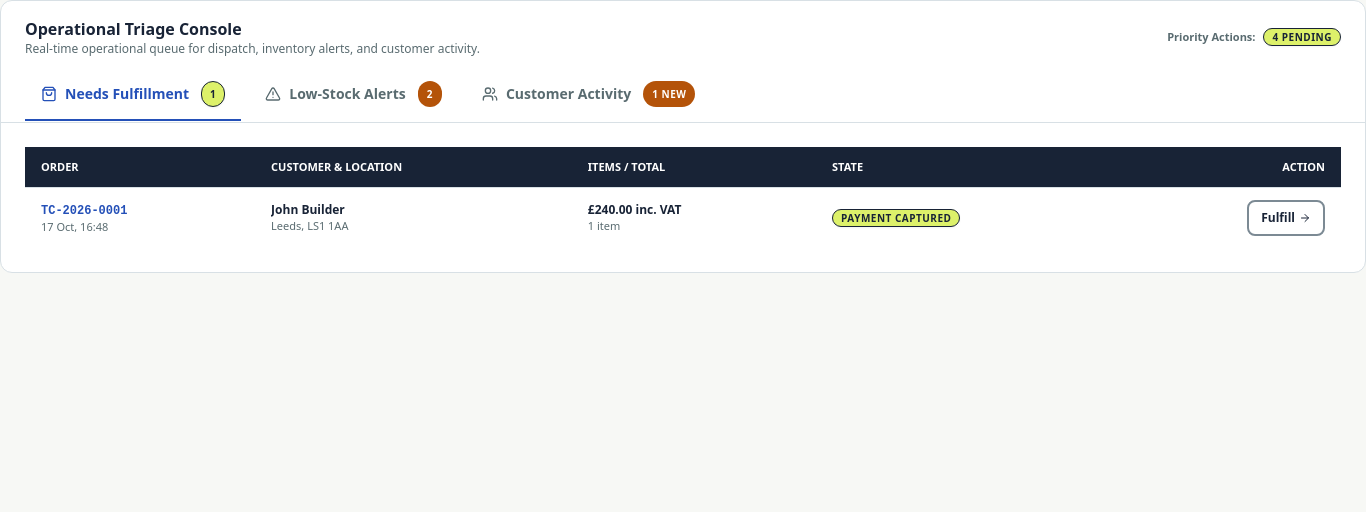
Test: Milestone M1: Retail Merchant Admin Navigation & Core Dashboard › Feature 3: DashboardQuickFilters 3-Tab Operational Triage Console › switches to Customer Activity tab and renders trade applications and orders
Click the tab "Customer Activity 1 New" at (589, 95), box [466, 69, 712, 121]
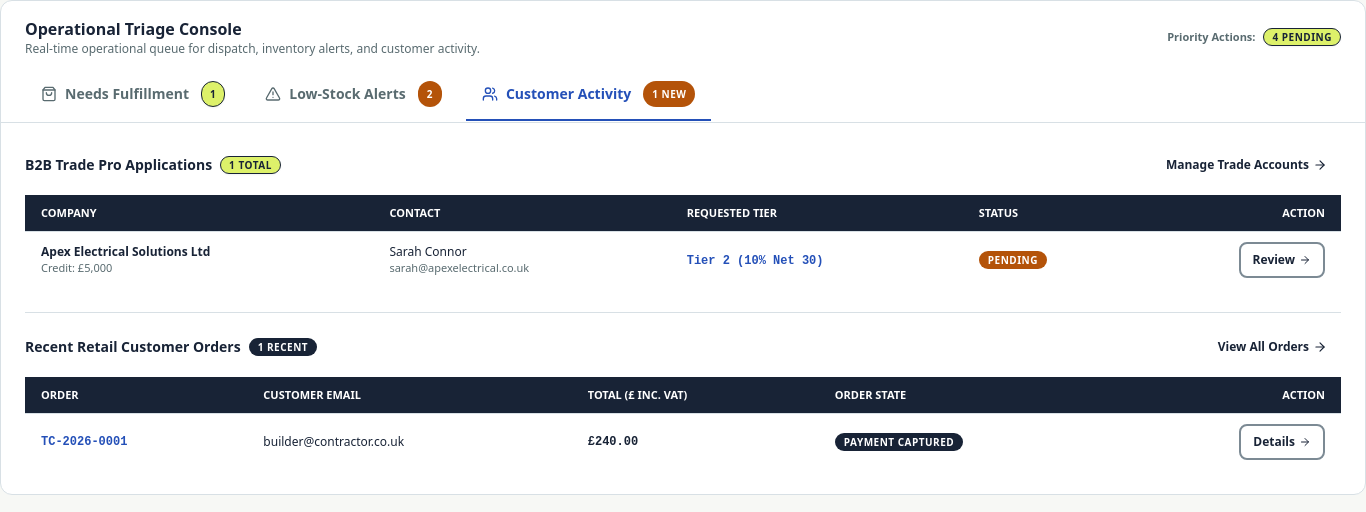
Expected: the text "Apex Electrical Solutions Ltd" is shown, [41, 243, 210, 260]
Expected: the text "Sarah Connor" is shown, [389, 243, 467, 260]
Expected: the text "Tier 2 (10% Net 30)" is shown, [687, 254, 824, 268]
